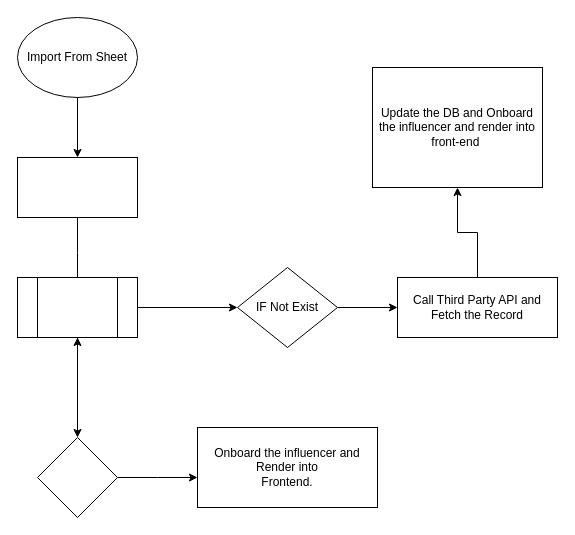
Image size: 575x535. Some labels were removed from this diagram. Each missing label, with the centre of its shape:
"Check into DB" goes at (77,307).
"Data Validation" goes at (77,187).
"IF Exist" goes at (77,477).
